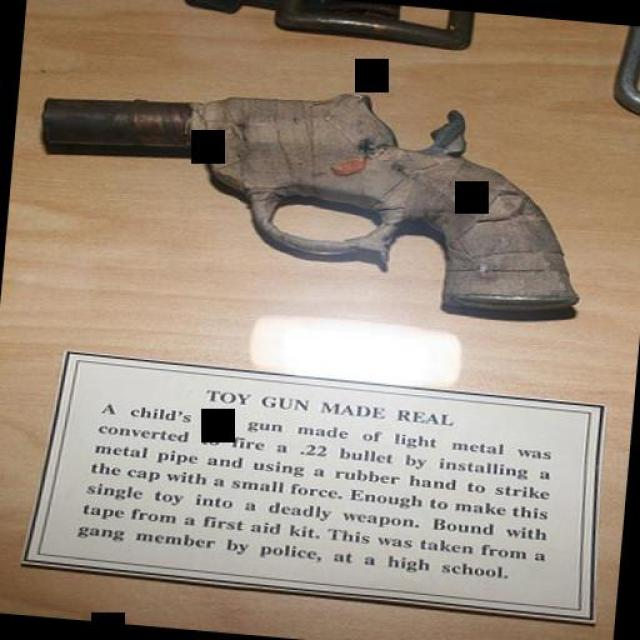gun: (16, 56, 599, 325)
